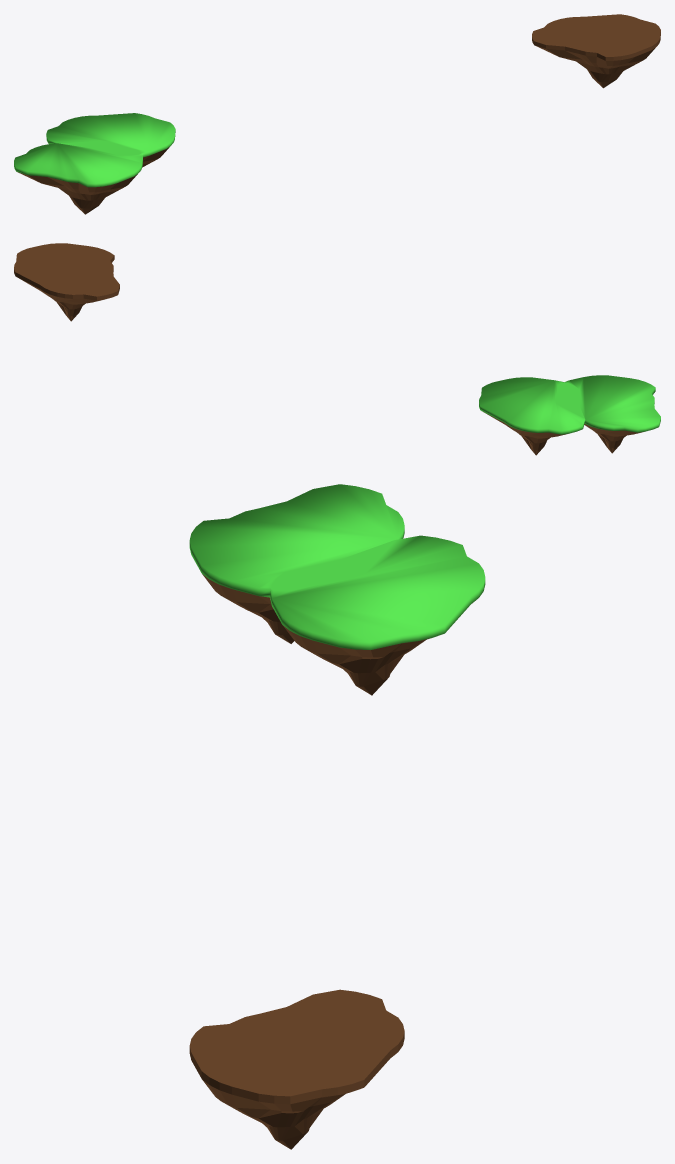
The model's file is lvl3.fbx.
The picture shows the model from 3 angles, top to bottom: view 1: azimuth 30°, elevation 25°; view 2: azimuth 150°, elevation 25°; view 3: azimuth 270°, elevation 25°; orthographic projection. The views are drawn at different scales.
Visible parts, largest first — view 1: Cylinder.004; view 2: Cylinder.004; view 3: Cylinder.004.
Boxes of the visible parts, box(x1,y1,x2,y2) form: Cylinder.004: box(14, 14, 660, 214); Cylinder.004: box(14, 243, 660, 455); Cylinder.004: box(189, 484, 485, 1149).
Bounding box in the file's own units: 6713 × 534 × 1370.
